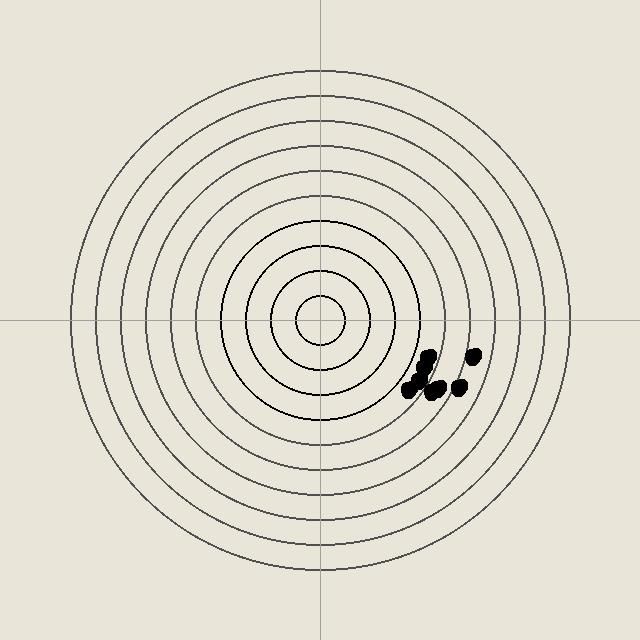good_group: (413, 357, 433, 377), (408, 370, 428, 390), (427, 378, 447, 398), (421, 381, 441, 401), (417, 347, 437, 367), (398, 379, 418, 399), (448, 377, 468, 397), (462, 346, 482, 366)
